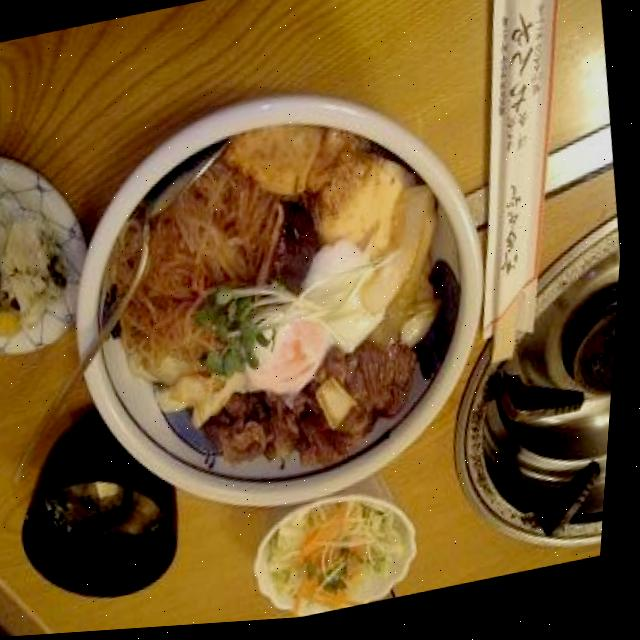汤锅炖物: (19, 449, 206, 625)
蔬菜料理: (244, 480, 438, 625)
